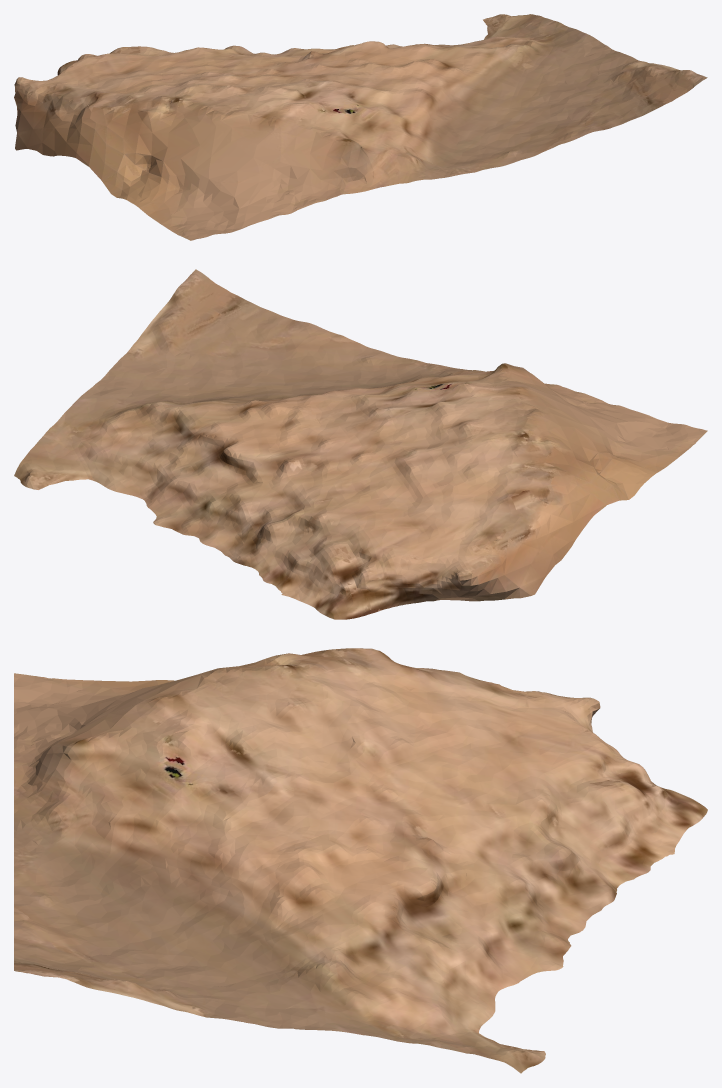
3 renders of one model, top to bottom at view 1: azimuth 30°, elevation 25°; view 2: azimuth 150°, elevation 25°; view 3: azimuth 270°, elevation 25°, orthographic. The views are drawn at different scales.
Bounding box in the file's own units: 1.04 × 0.1692 × 0.8783.
2 materials, 2 textured.
